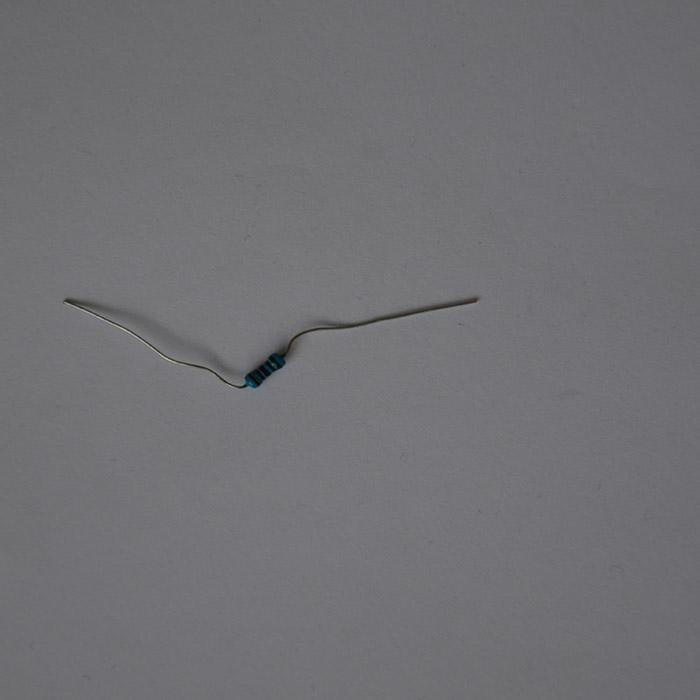resistor: (240, 348, 289, 397)
